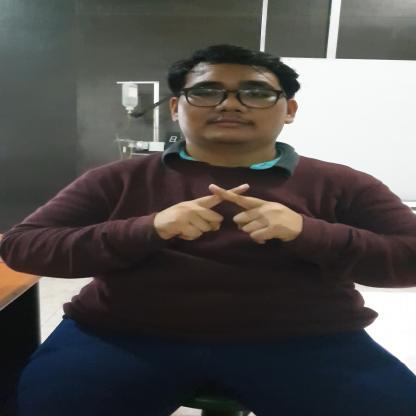X: (168, 182, 296, 244)
